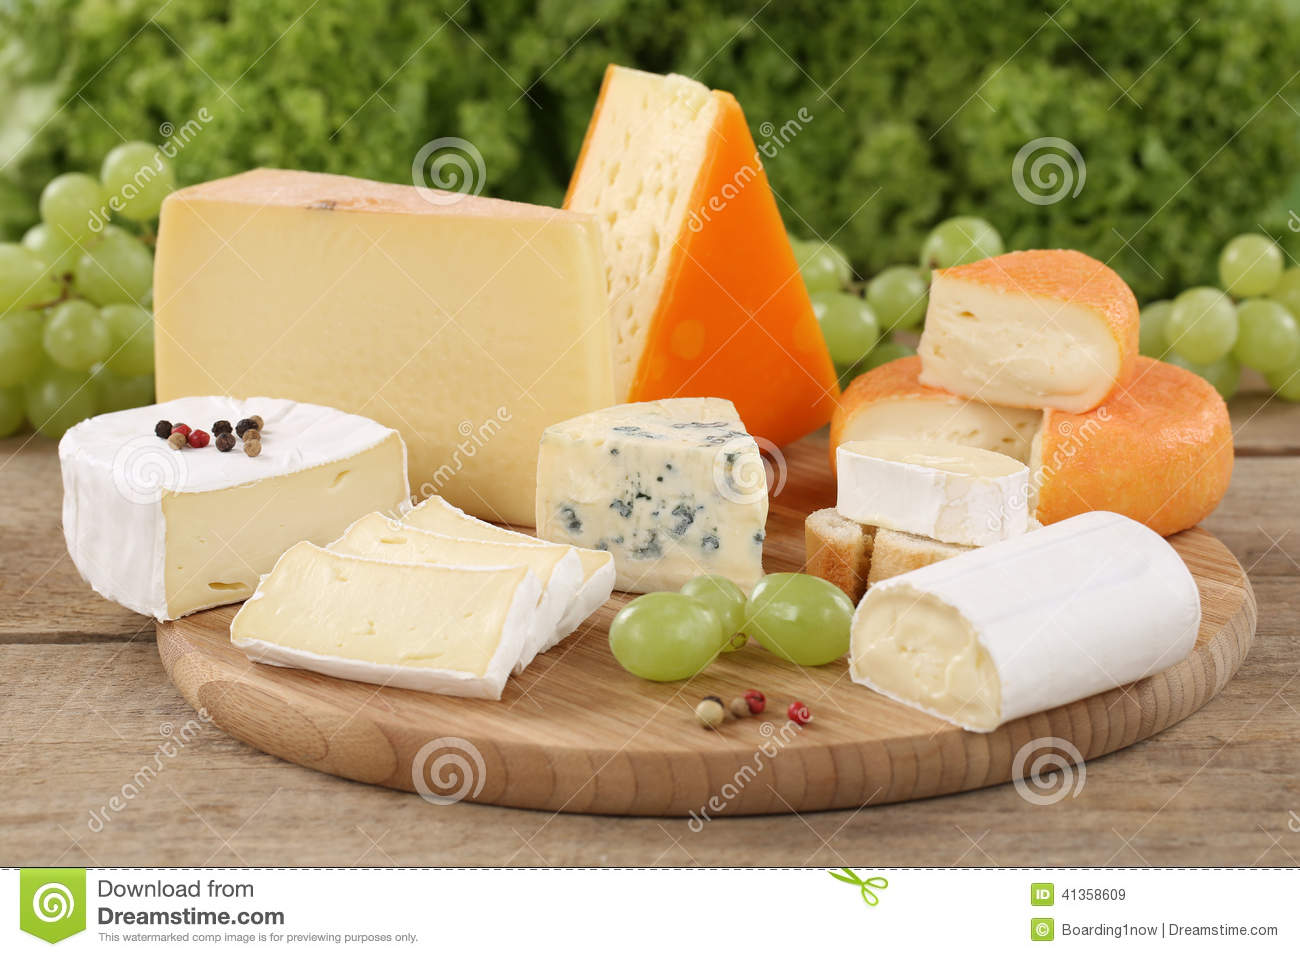cheese: (126, 152, 637, 512), (843, 226, 1183, 704), (520, 61, 817, 570), (22, 383, 440, 612), (276, 498, 602, 716), (523, 373, 785, 621)
